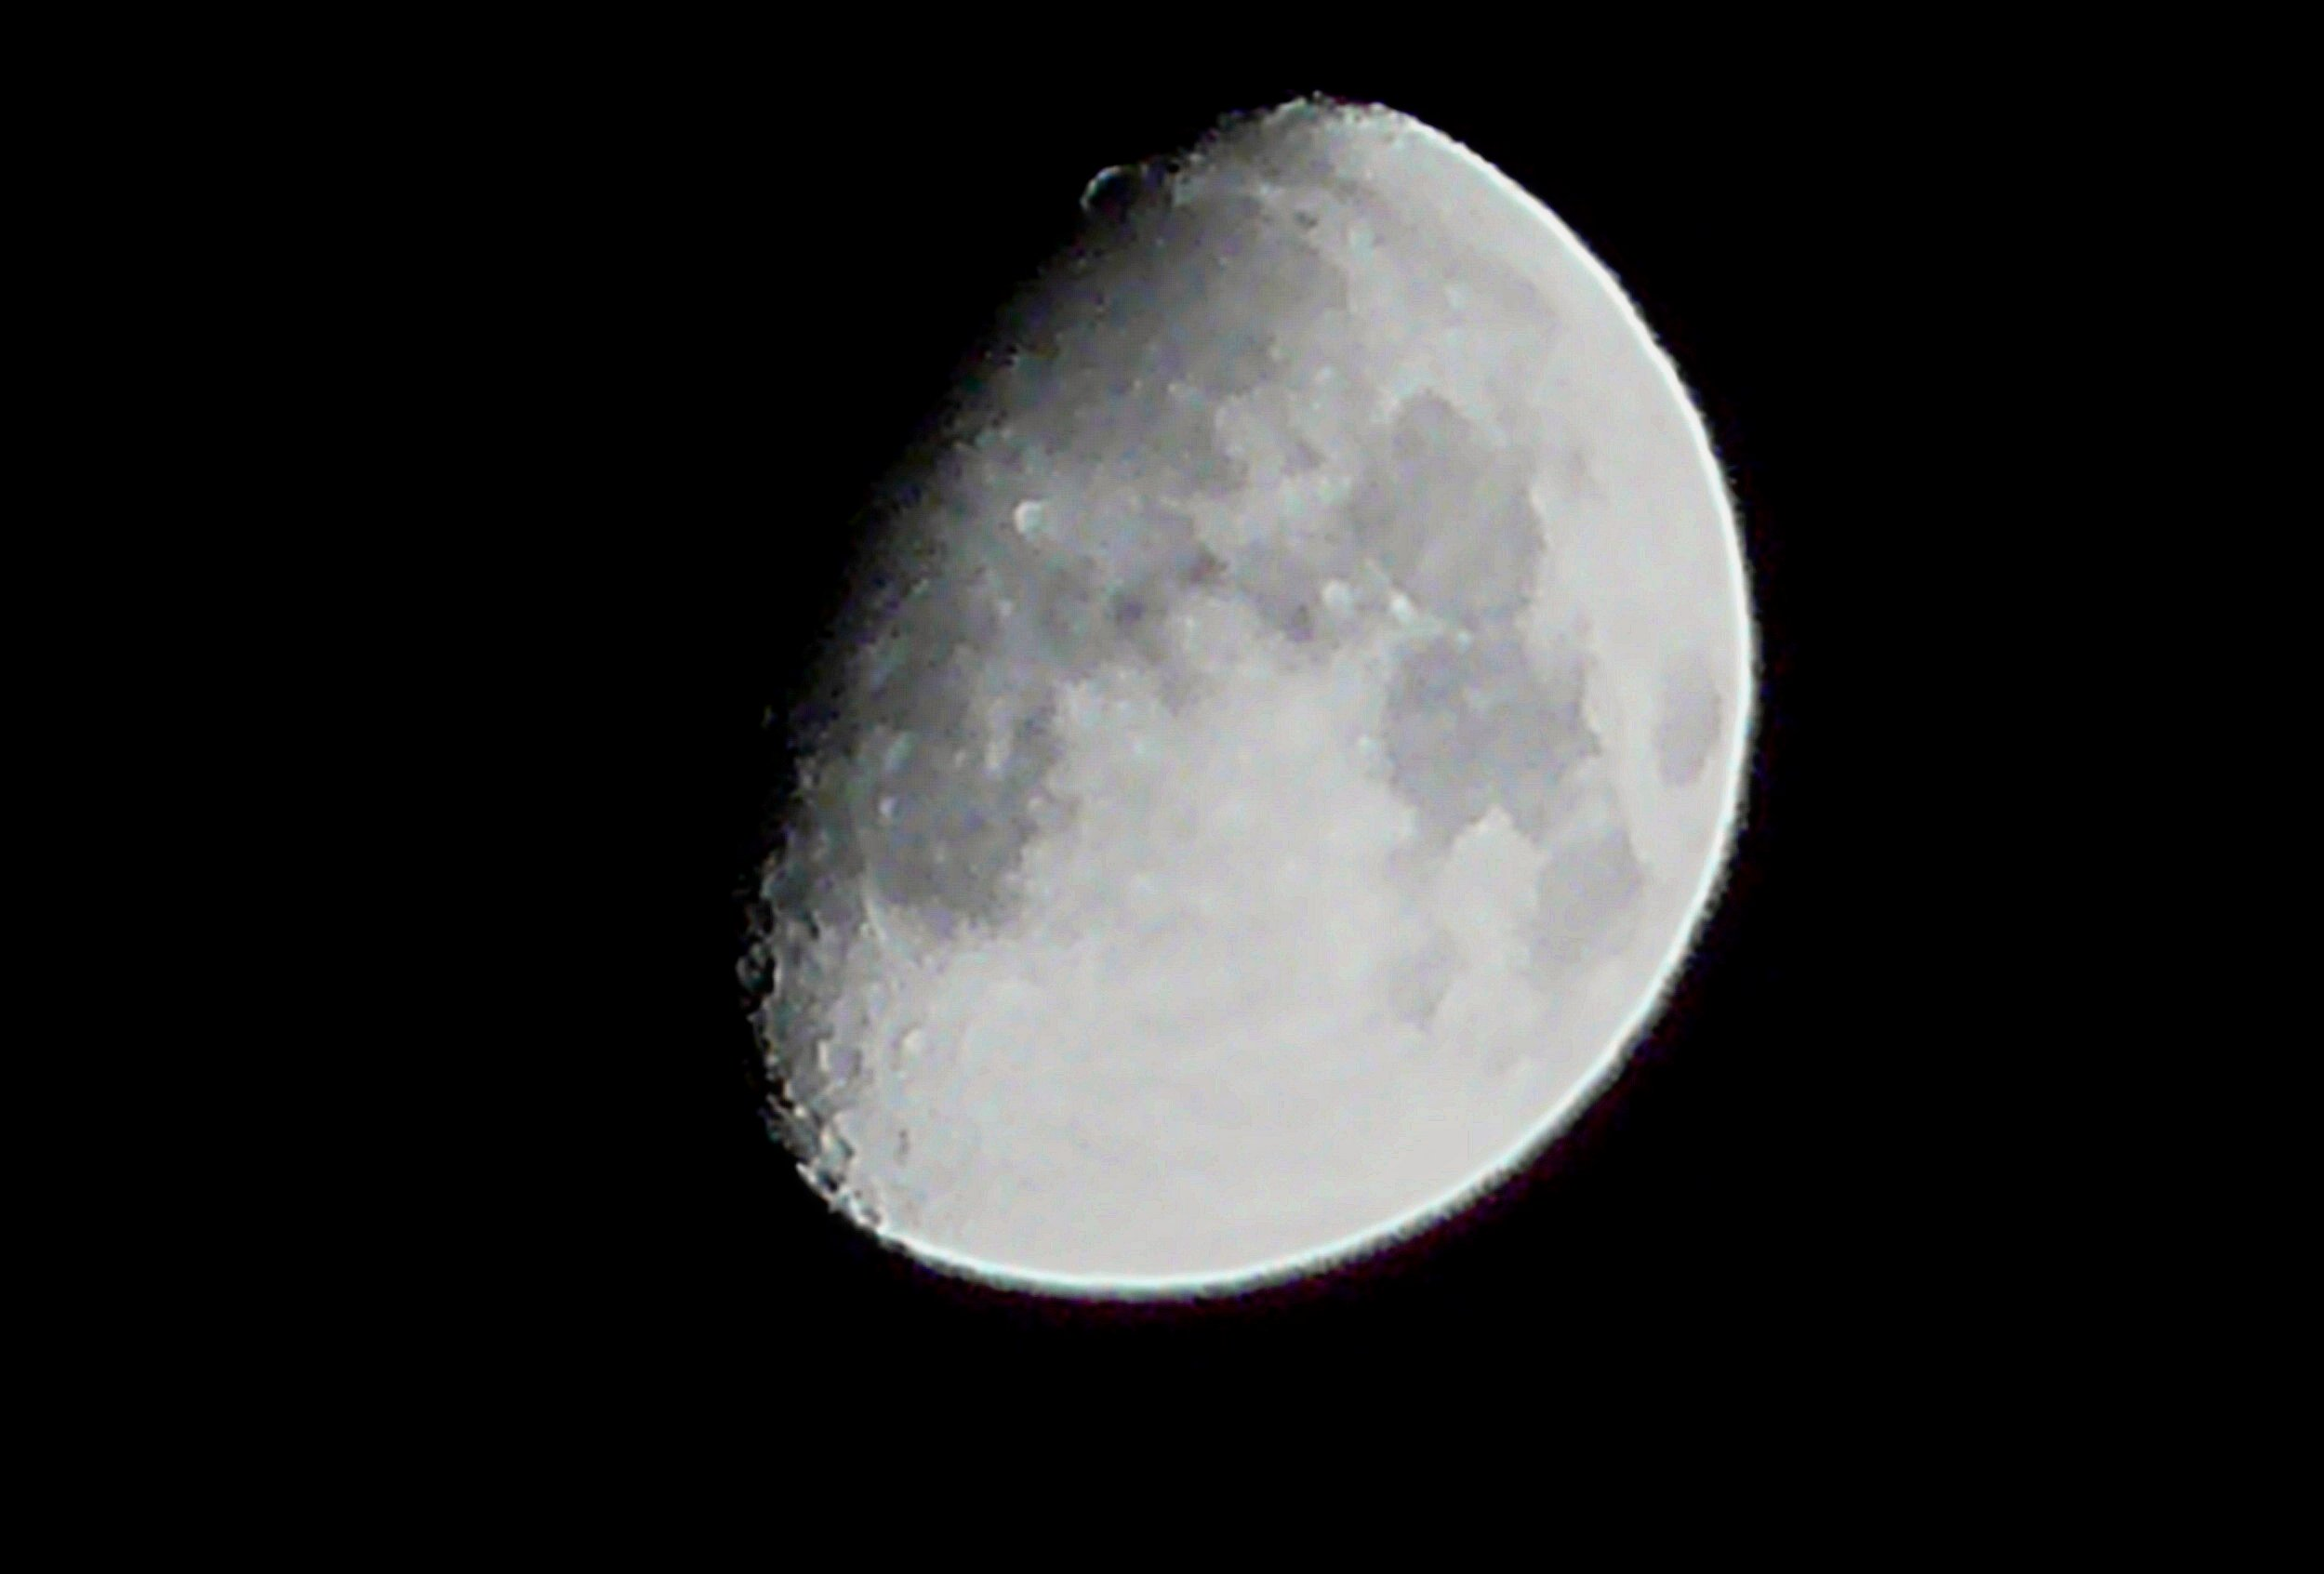crater: (1637, 634, 1732, 806), (806, 1021, 878, 1098), (994, 488, 1061, 555), (1310, 564, 1361, 631)
